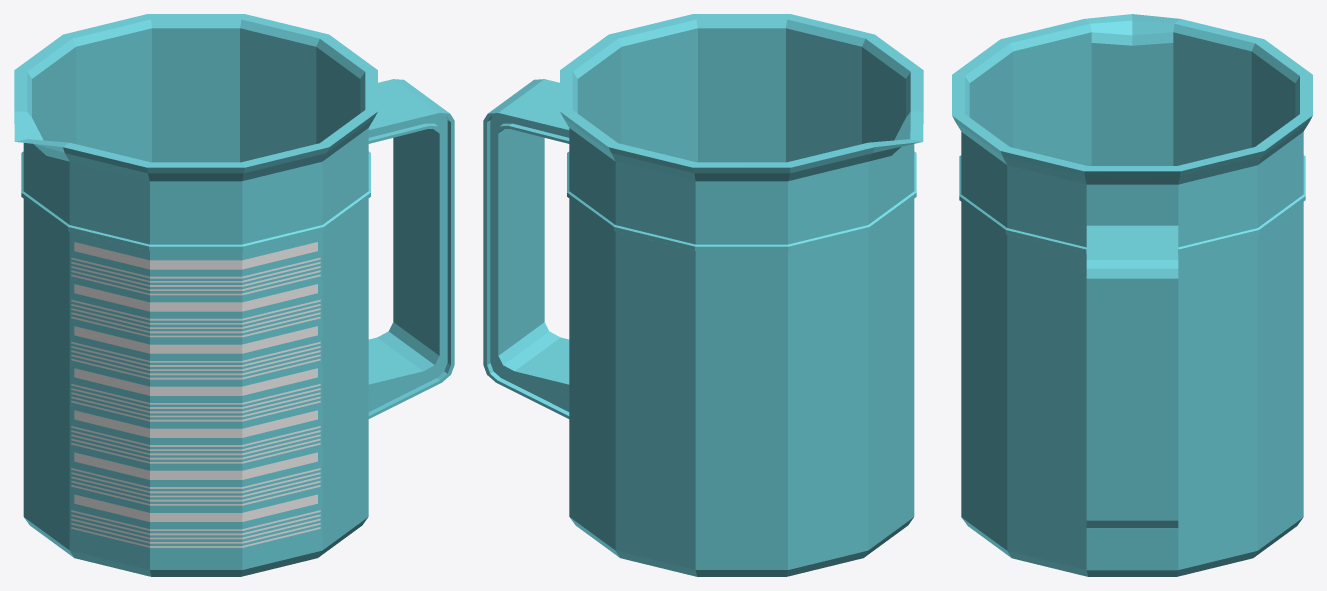
Rendered from SM_Beaker_03_B.glb.
The picture shows the model from 3 angles, left to right: view 1: azimuth 30°, elevation 25°; view 2: azimuth 150°, elevation 25°; view 3: azimuth 270°, elevation 25°; orthographic projection.
Parts seen in each view (by area): view 1: SM_Beaker_03_B; view 2: SM_Beaker_03_B; view 3: SM_Beaker_03_B.
Part boxes in pixels (x1=…): SM_Beaker_03_B: x1=14, y1=14, x2=454, y2=576; SM_Beaker_03_B: x1=483, y1=14, x2=923, y2=576; SM_Beaker_03_B: x1=952, y1=14, x2=1312, y2=576.
Size of the model in its own units: 0.2311 by 0.2224 by 0.1747.
